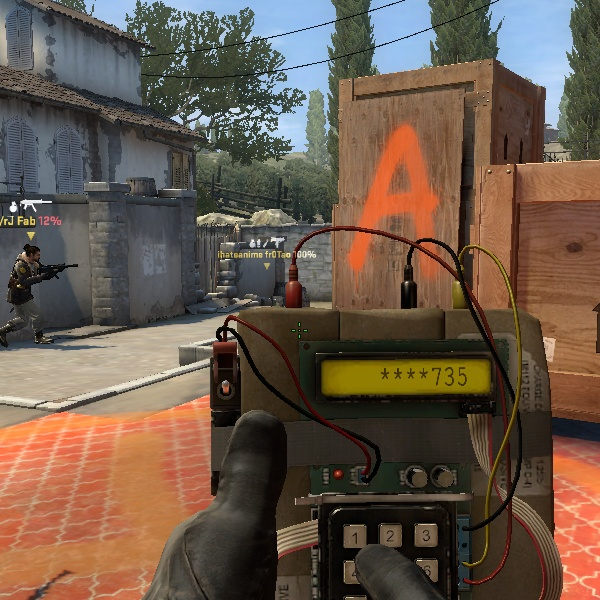ct_body: (3, 239, 60, 344)
t_body: (3, 239, 60, 344)
